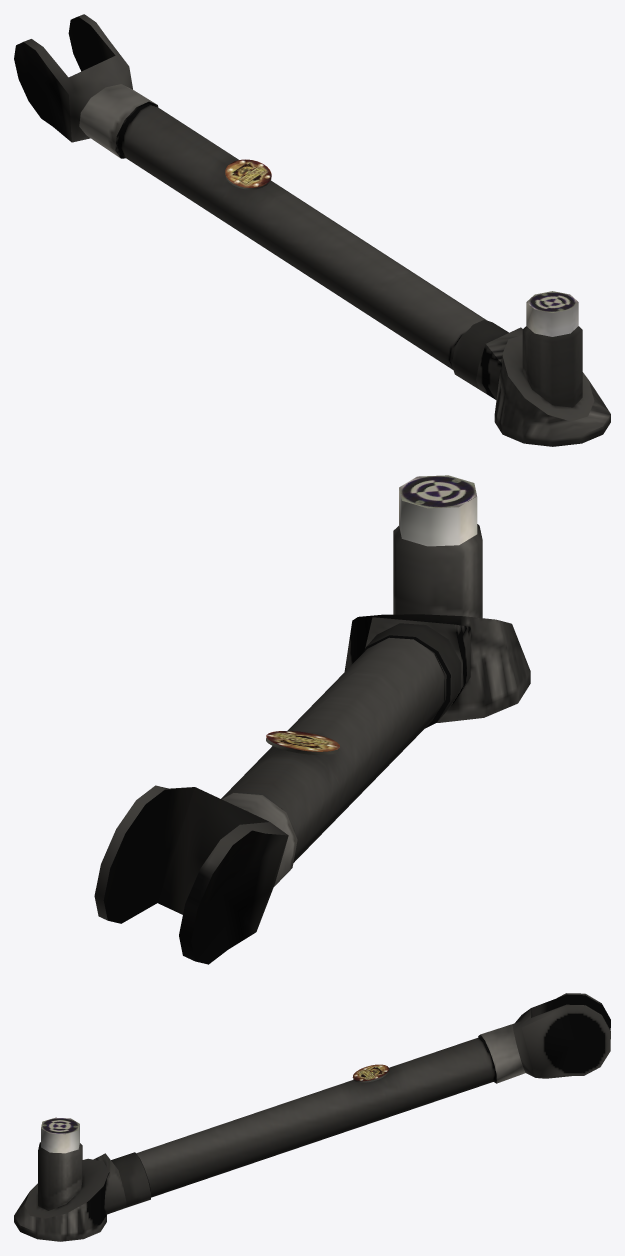
File: suspension_arm_F_L.dae
3 views of the same model, one above another, from view 1: azimuth 30°, elevation 25°; view 2: azimuth 150°, elevation 25°; view 3: azimuth 270°, elevation 25° (orthographic). The views are drawn at different scales.
Visible parts, largest first — view 1: suspension_arm_F_L; view 2: suspension_arm_F_L; view 3: suspension_arm_F_L.
Boxes of the visible parts, x1,y1,x2,y2 form: suspension_arm_F_L: [14, 14, 610, 446]; suspension_arm_F_L: [94, 475, 530, 964]; suspension_arm_F_L: [14, 993, 610, 1241].
Bounding box in the file's own units: 0.3961 × 1.02 × 0.3054.
3 materials, 3 textured.
